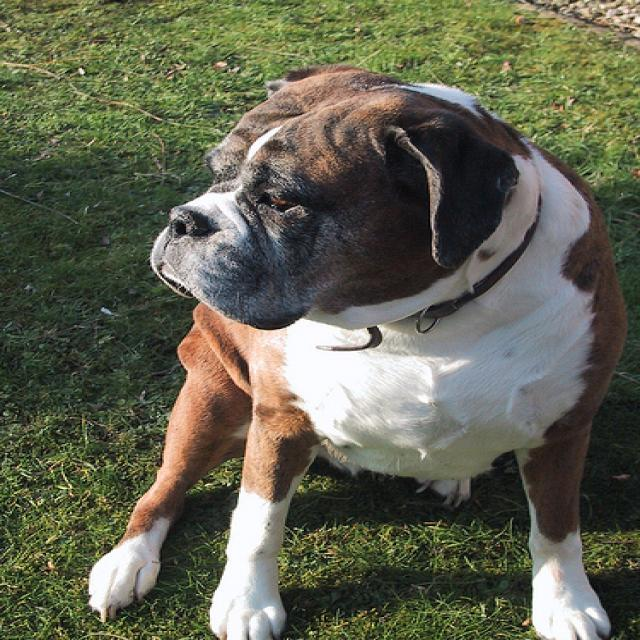dog-boxer: (73, 60, 637, 637)
